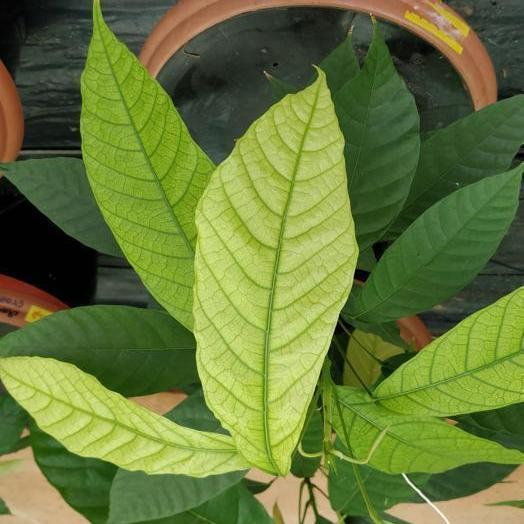Iron: (194, 71, 357, 474), (81, 0, 213, 329), (0, 357, 248, 476), (375, 287, 523, 417), (334, 386, 523, 472)
